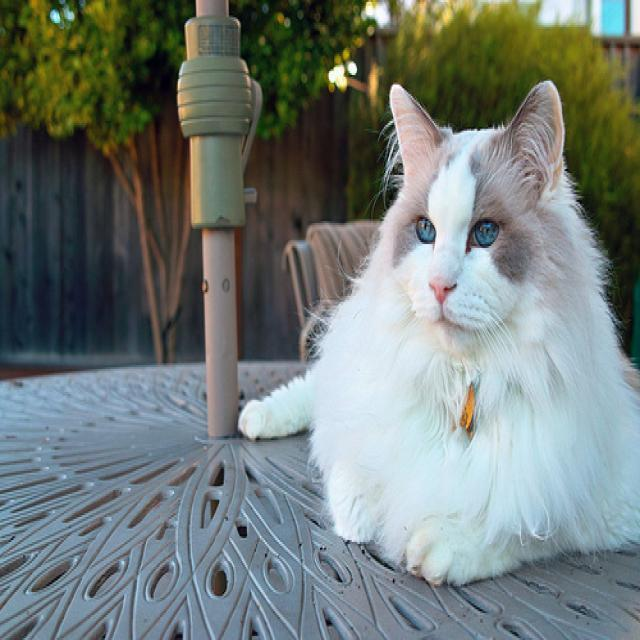Ragdoll: (386, 79, 562, 350)
